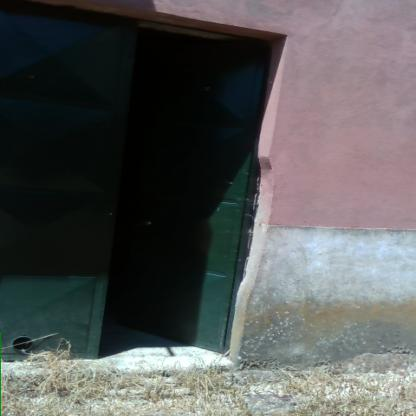semi: (0, 0, 286, 374)
